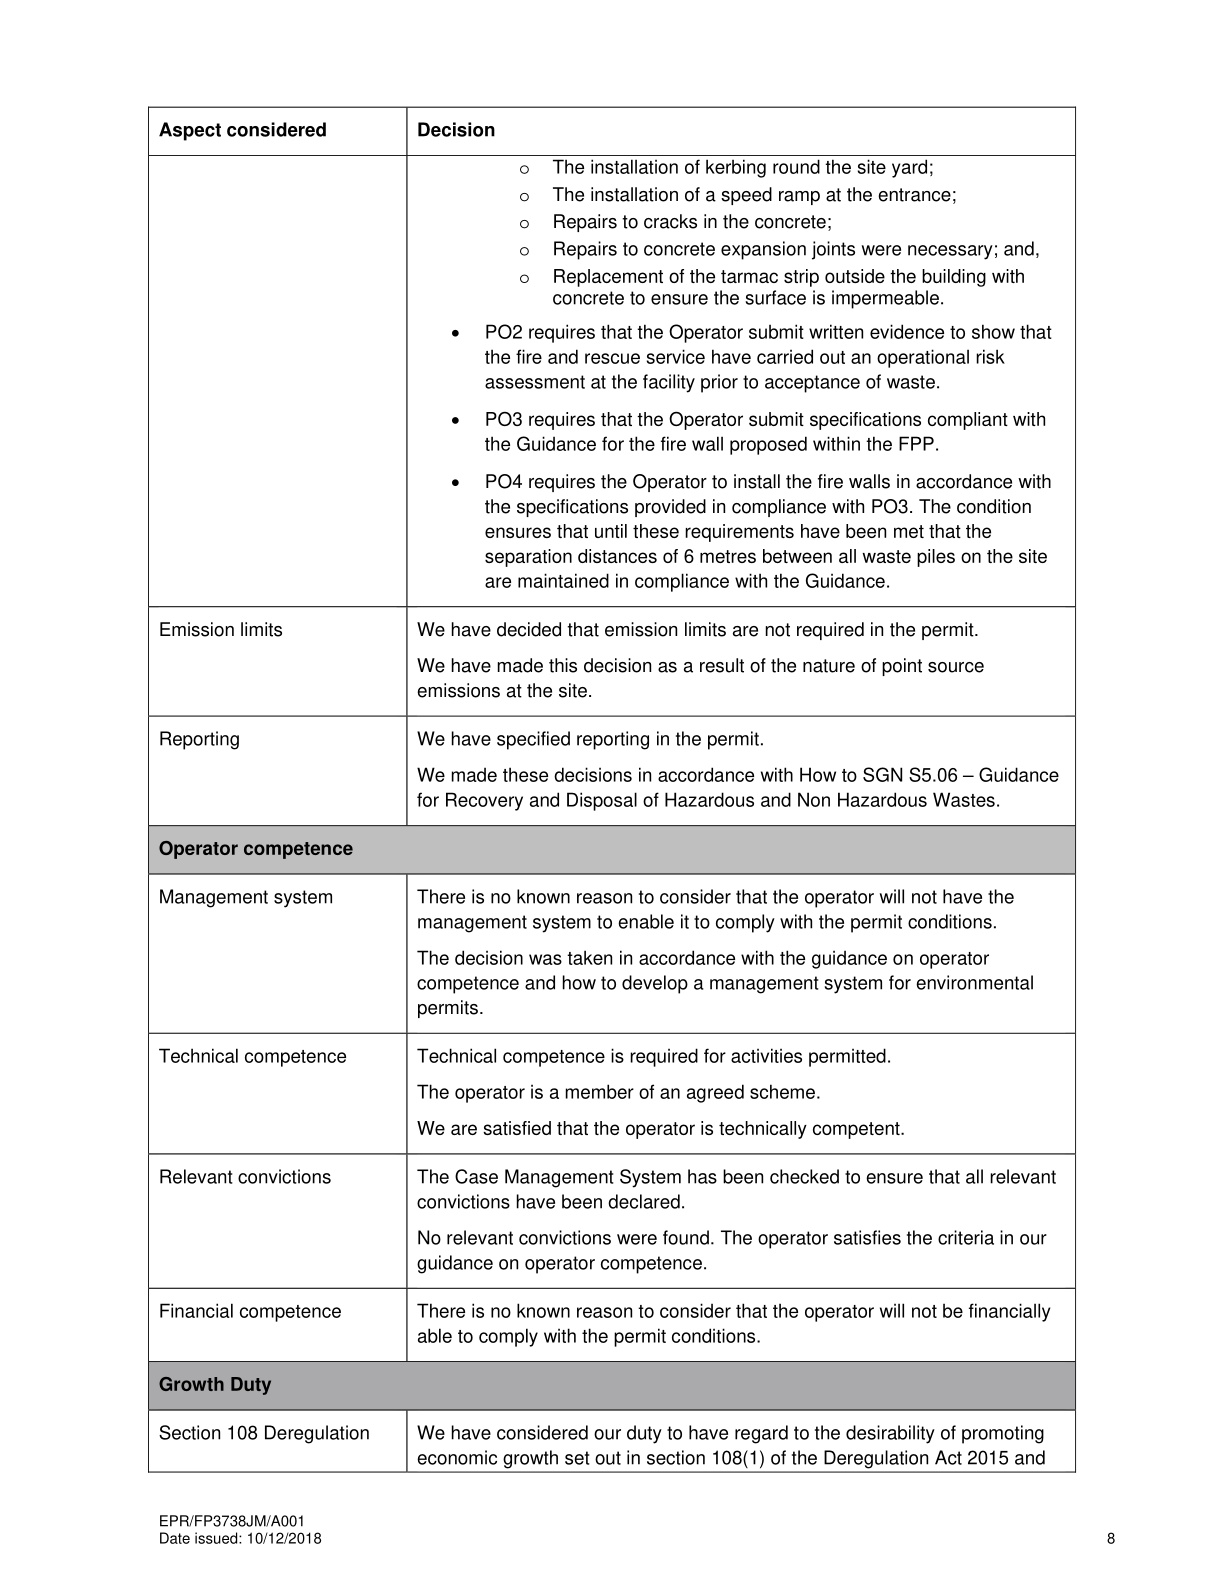merged_cells: (147, 105, 1077, 1473)
